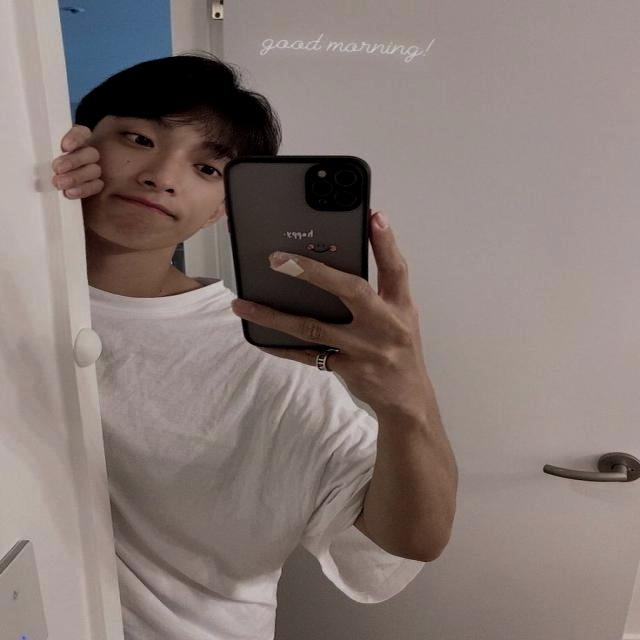lens: (311, 164, 361, 210)
phone: (217, 149, 378, 353)
